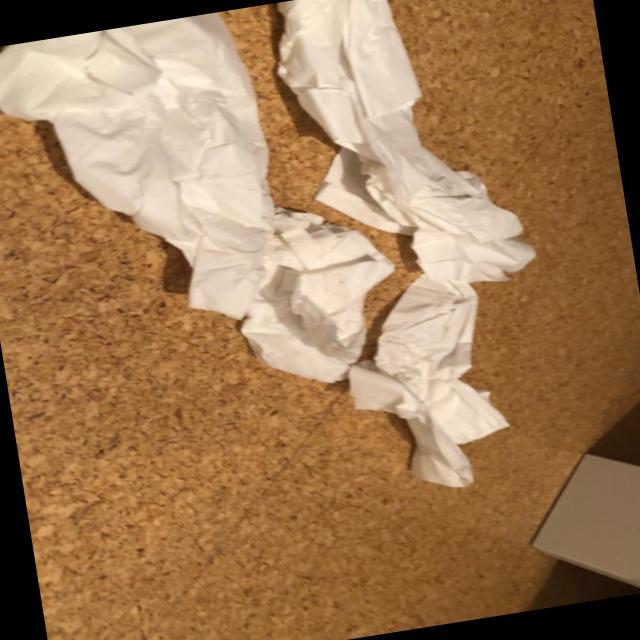organic waste: (0, 6, 301, 355), (306, 107, 544, 310), (325, 268, 521, 507), (289, 0, 482, 238), (218, 190, 419, 402)
